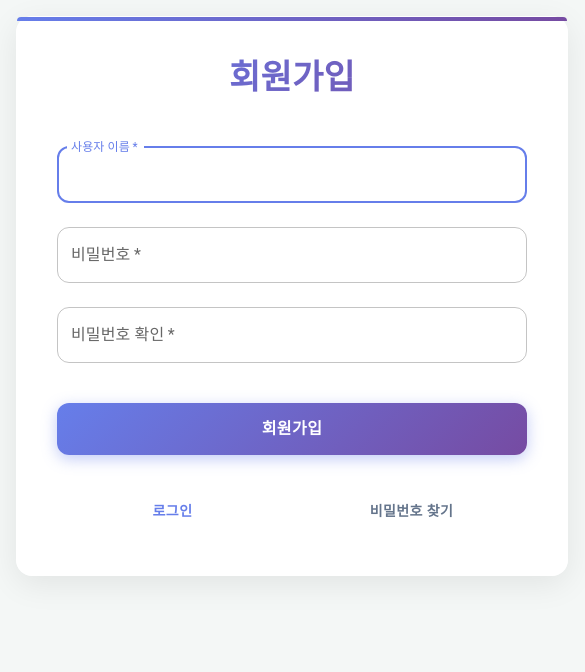
it: RegisterPage › should display error from server response
In the field labelled "사용자 이름 *": (292, 175) [57,147,527,203], type "existinguser"
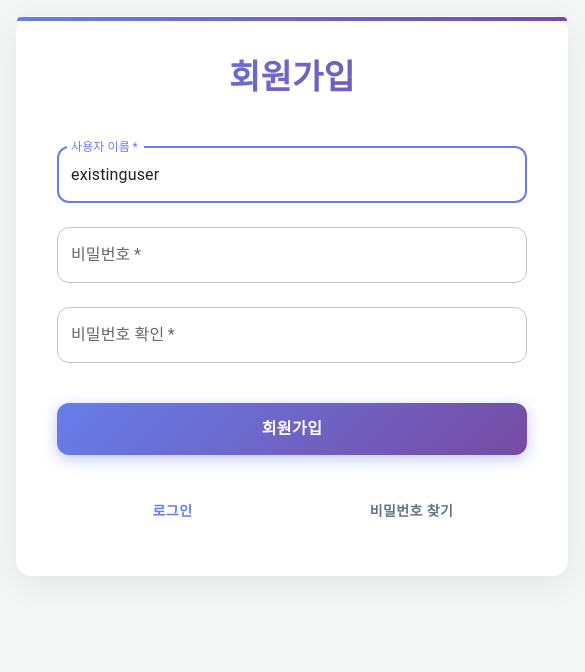
In the password field labelled "비밀번호 *": (292, 255) [57,227,527,283], type "password123"
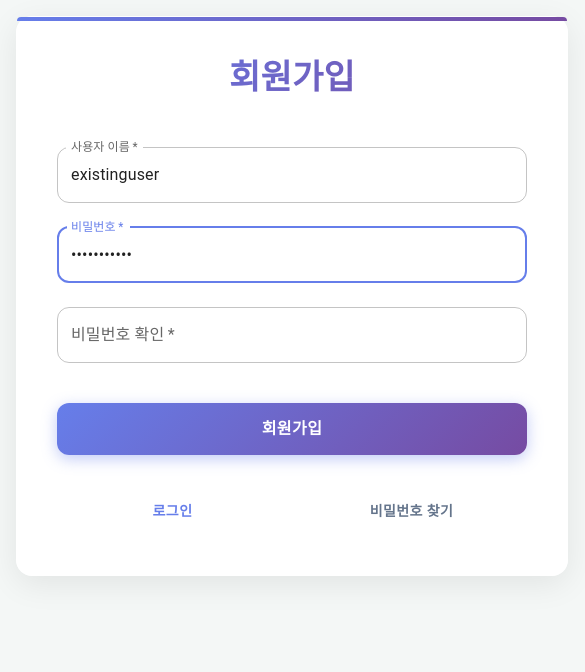
In the password field labelled "비밀번호 확인 *": (292, 335) [57,307,527,363], type "password123"
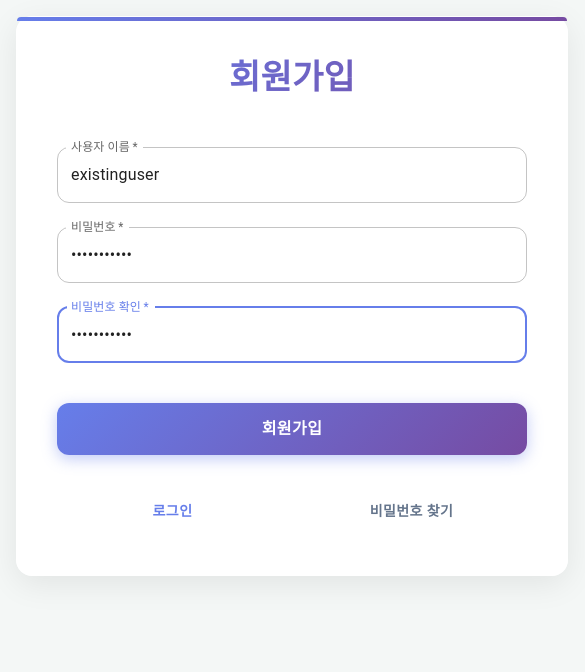
Click the button "회원가입": (292, 429) [57,403,527,455]
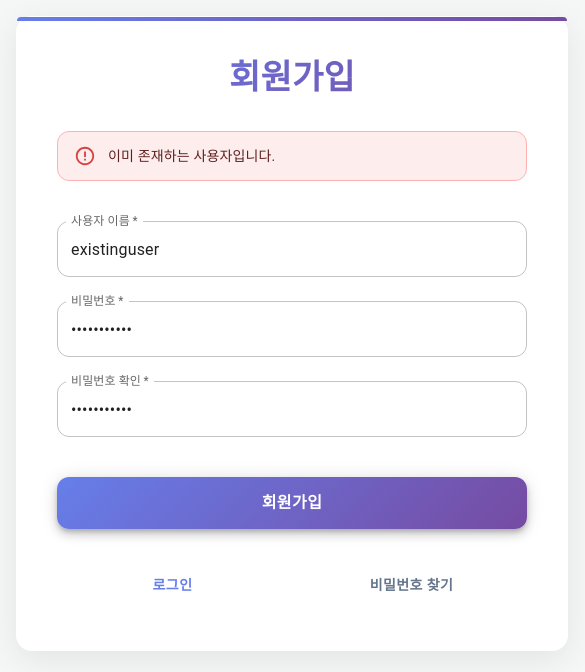
Expected: the text "이미 존재하는 사용자입니다." is shown, [108,148,276,164]
